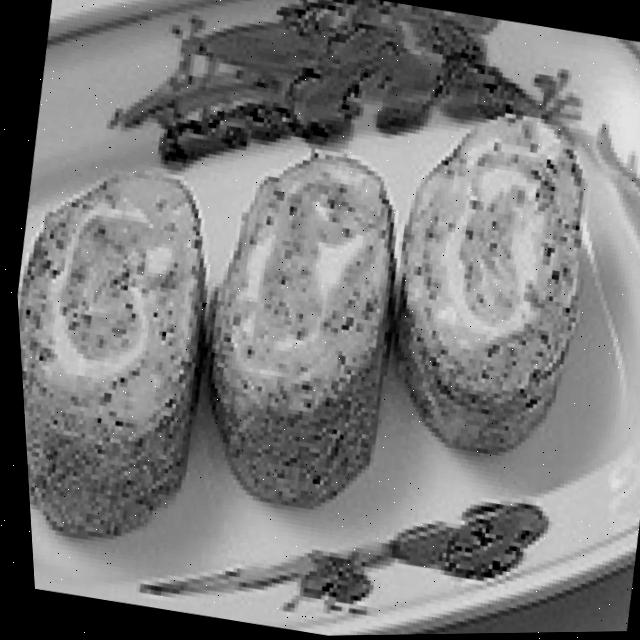鸡蛋料理: (1, 7, 640, 630)
